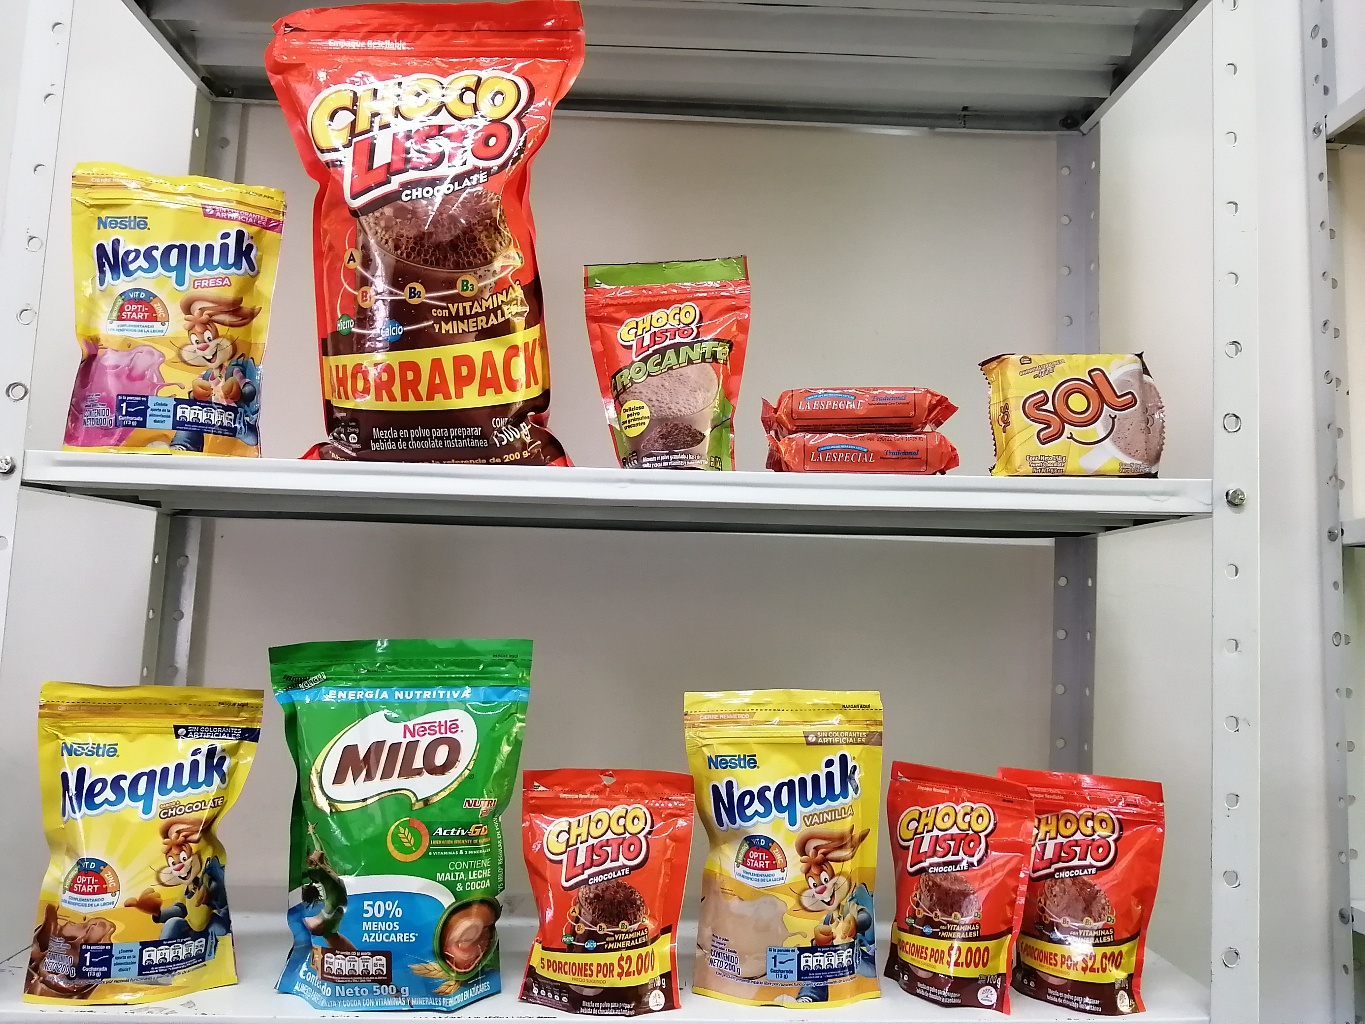COL0170102DYP10000: (584, 258, 748, 475)
COL0170103DYP1,500: (272, 4, 581, 460)
COL0170205DYP50000: (268, 636, 528, 1016)
COL0170303DYP20000: (41, 675, 266, 1005)
COL0170305DYP20000: (73, 160, 283, 458)
COL0170306DYP20000: (680, 688, 887, 1008)
